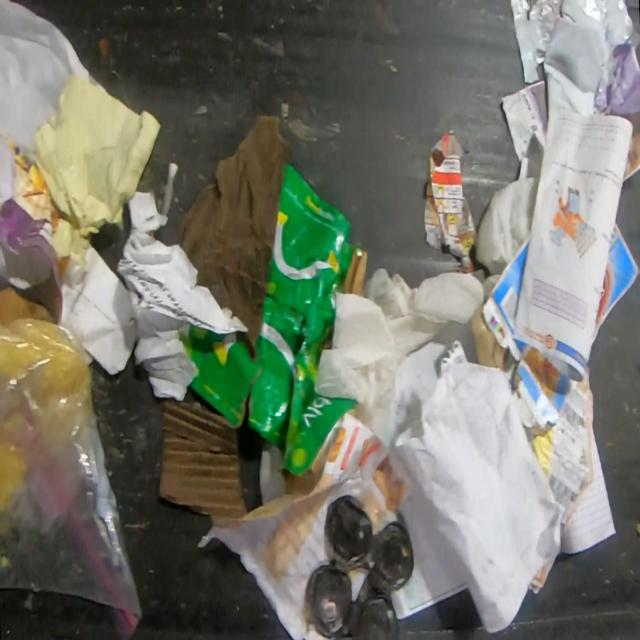cardboard: (179, 160, 370, 481), (482, 227, 582, 434), (157, 396, 248, 530), (592, 219, 640, 349), (469, 297, 516, 374), (0, 285, 56, 326)
rigid_plastic: (306, 493, 414, 639)
soft_plastic: (0, 316, 145, 640)
